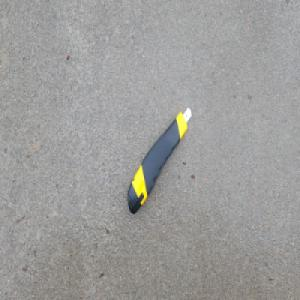Cutter: (127, 106, 192, 215)
